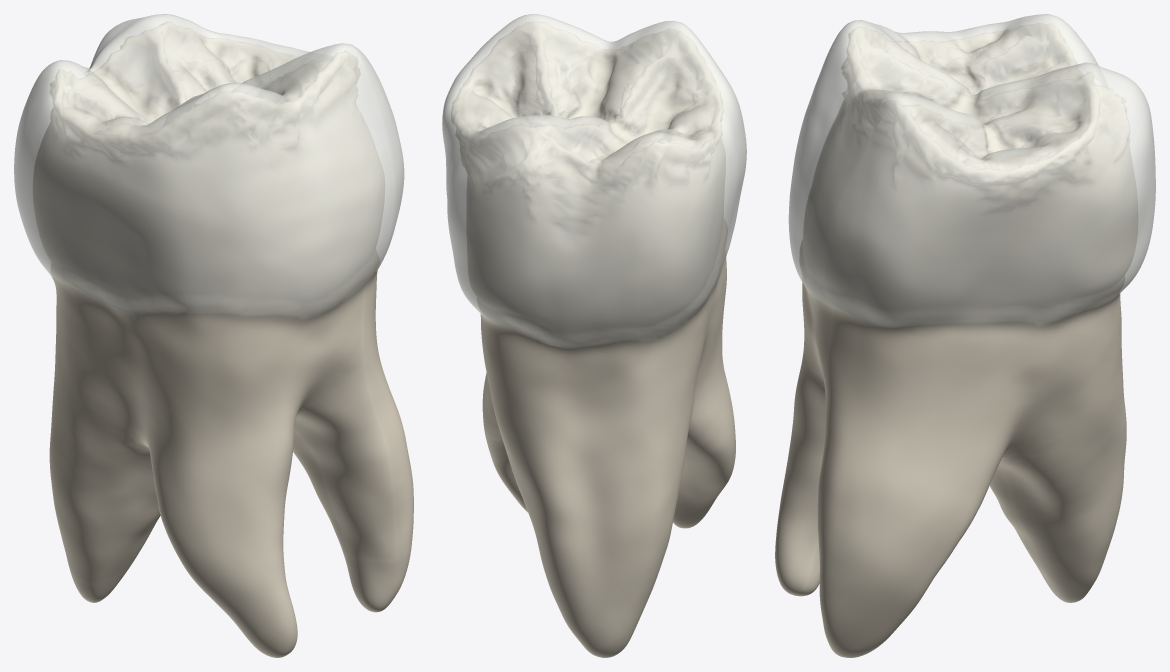
Rendered from molar-mobile.glb.
The picture shows the model from 3 angles, left to right: view 1: azimuth 30°, elevation 25°; view 2: azimuth 150°, elevation 25°; view 3: azimuth 270°, elevation 25°; orthographic projection. The views are drawn at different scales.
Visible parts, largest first — view 1: Enamel_mobile, Cementum_mobile, Dentin_mobile; view 2: Enamel_mobile, Dentin_mobile, Cementum_mobile; view 3: Enamel_mobile, Cementum_mobile, Dentin_mobile.
Boxes of the visible parts, x1,y1,x2,y2 form: Enamel_mobile: (14, 14, 404, 319); Cementum_mobile: (49, 270, 413, 657); Dentin_mobile: (33, 22, 384, 318); Enamel_mobile: (442, 14, 746, 347); Dentin_mobile: (451, 22, 727, 347); Cementum_mobile: (480, 251, 735, 657); Enamel_mobile: (788, 14, 1155, 327); Cementum_mobile: (775, 278, 1126, 657); Dentin_mobile: (799, 23, 1137, 327).
Bounding box in the file's own units: 0.0117 × 0.021 × 0.0122.
4 materials, 2 textured.
